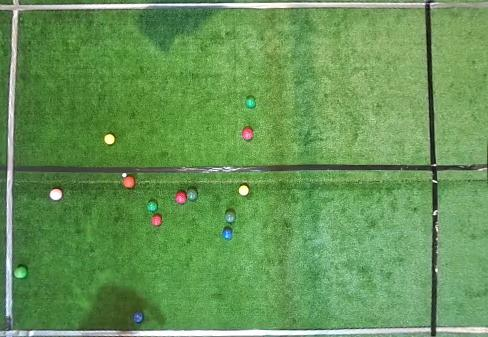blue: (132, 312, 144, 324), (222, 229, 233, 239)
green: (14, 266, 27, 279), (187, 188, 198, 201), (225, 211, 236, 223), (147, 201, 158, 212), (245, 97, 255, 108)
red: (174, 191, 187, 205), (49, 188, 63, 201), (123, 176, 136, 189), (151, 214, 163, 227), (242, 127, 254, 140)
vline: (425, 0, 487, 336), (0, 0, 20, 336)
white: (122, 173, 127, 177)
yellow: (103, 134, 116, 145), (238, 185, 250, 196)
